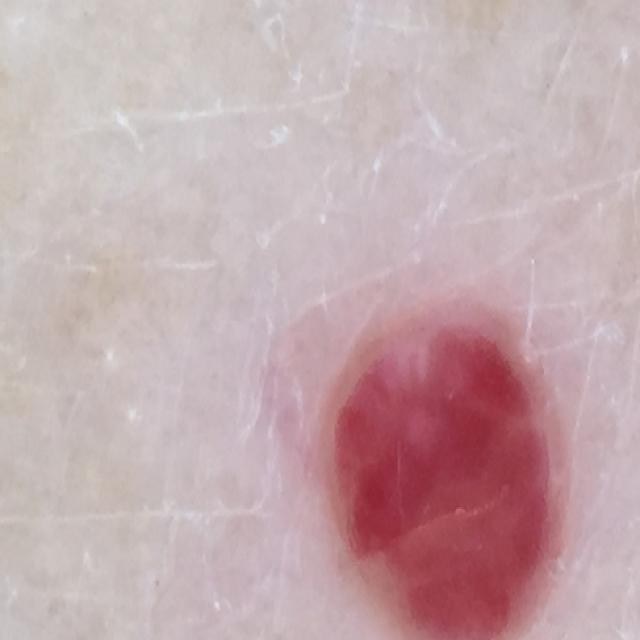Vascular Lesions: (288, 262, 586, 640)
